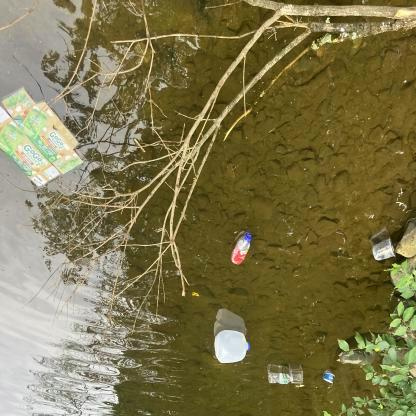Plastic: (210, 324, 254, 366), (228, 228, 256, 268), (368, 232, 398, 264), (268, 369, 305, 385)
Trash: (322, 370, 336, 386)
